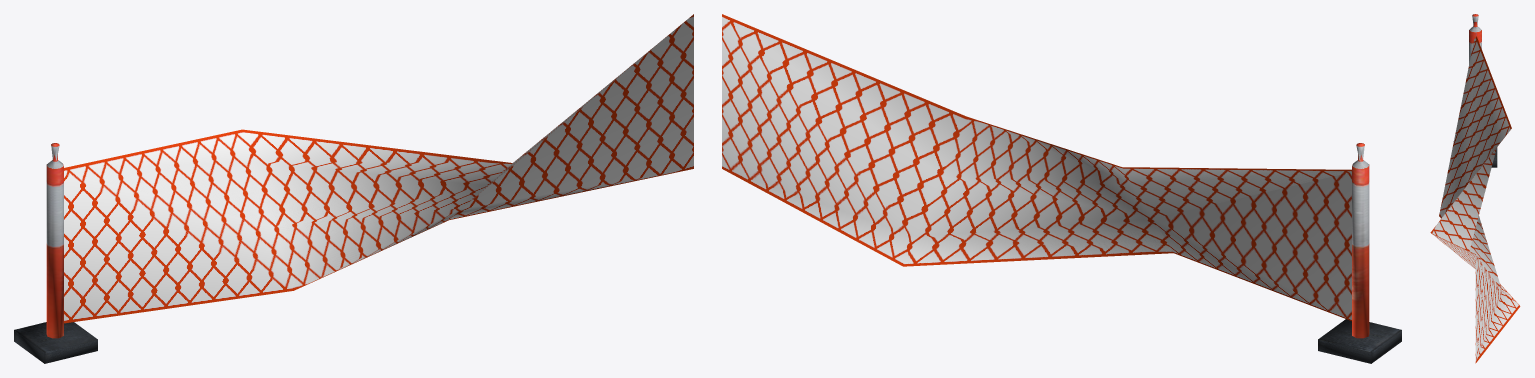
Rendered from orangeFence_sag2_2.fbx.
3 renders of one model, left to right at view 1: azimuth 30°, elevation 25°; view 2: azimuth 150°, elevation 25°; view 3: azimuth 270°, elevation 25°, orthographic. The views are drawn at different scales.
Parts seen in each view (by area): view 1: Plane01, Duplicate03, Cylinder02, Box03; view 2: Plane01, Duplicate03, Cylinder02, Box03; view 3: Plane01, Duplicate03, Cylinder02.
Boxes of the visible parts, x1,y1,x2,y2 form: Plane01: [64, 14, 693, 323]; Duplicate03: [64, 14, 693, 289]; Cylinder02: [46, 143, 63, 338]; Box03: [14, 322, 97, 363]; Plane01: [722, 14, 1351, 266]; Duplicate03: [722, 15, 1351, 321]; Cylinder02: [1352, 143, 1369, 338]; Box03: [1318, 319, 1401, 363]; Plane01: [1430, 36, 1520, 363]; Duplicate03: [1431, 38, 1518, 358]; Cylinder02: [1469, 14, 1481, 64].
Size of the model in its own units: 375 by 110 by 62.05.
